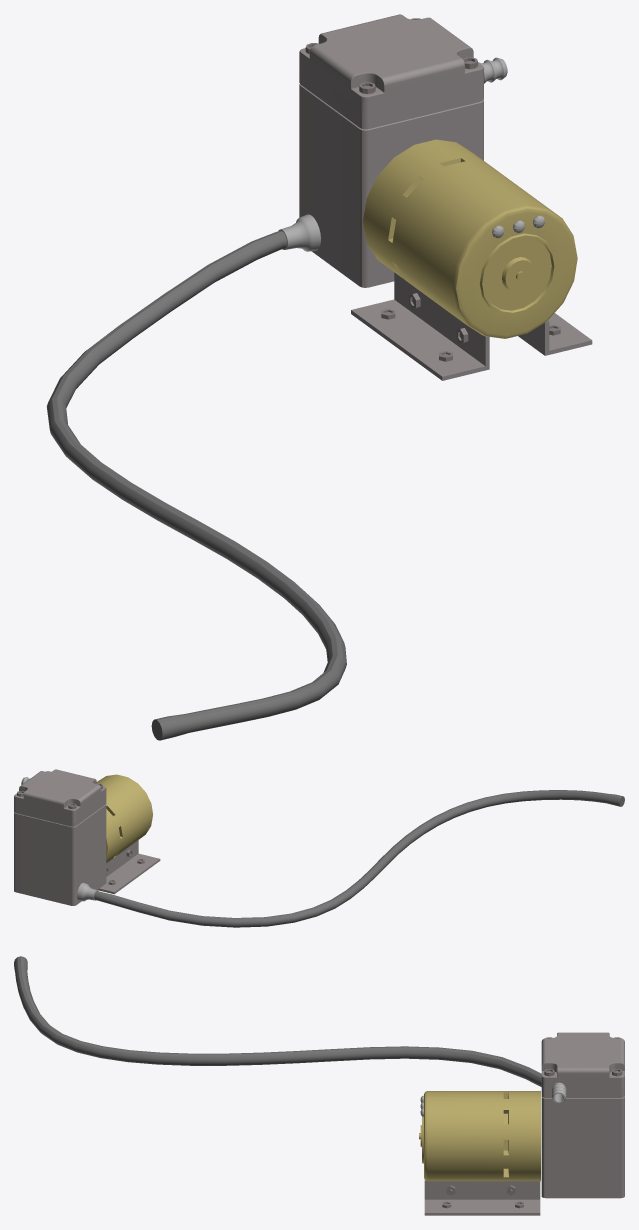
Rendered from vacuumPump.glb.
The picture shows the model from 3 angles, top to bottom: view 1: azimuth 30°, elevation 25°; view 2: azimuth 150°, elevation 25°; view 3: azimuth 270°, elevation 25°; orthographic projection. The views are drawn at different scales.
Parts seen in each view (by area): view 1: pCube20, pCylinder12, _pipe, pCube19, pCylinder22; view 2: pCube20, _pipe, pCylinder12, pCube19, pCylinder22; view 3: pCube20, pCylinder12, _pipe, pCube19.
Part boxes in pixels (left/top/right/bottom): pCube20: left=299, top=14, right=483, bottom=287; pCylinder12: left=363, top=139, right=577, bottom=338; _pipe: left=46, top=230, right=346, bottom=740; pCube19: left=351, top=272, right=592, bottom=380; pCylinder22: left=278, top=214, right=320, bottom=251; pCube20: left=14, top=769, right=106, bottom=905; _pipe: left=94, top=790, right=624, bottom=927; pCylinder12: left=96, top=774, right=152, bottom=863; pCube19: left=97, top=840, right=160, bottom=894; pCylinder22: left=77, top=883, right=97, bottom=901; pCube20: left=541, top=1032, right=624, bottom=1198; pCylinder12: left=419, top=1091, right=540, bottom=1181; _pipe: left=14, top=956, right=541, bottom=1086; pCube19: left=424, top=1180, right=540, bottom=1215.
Size of the model in its own units: 159 by 44.41 by 173.
